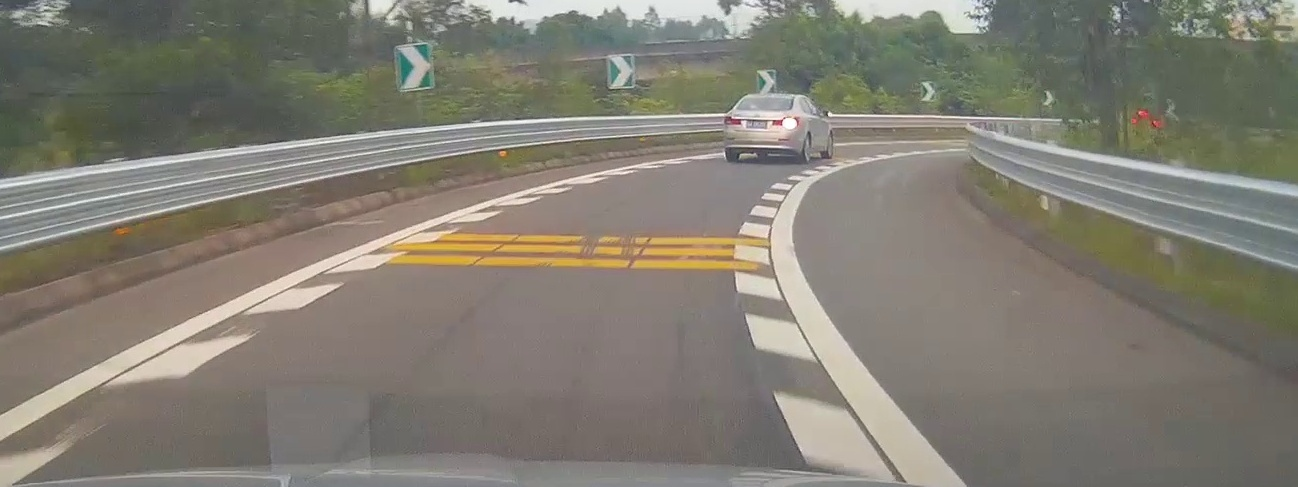L_light: (725, 116, 741, 125)
R_light: (772, 117, 798, 129)
T_light: (757, 106, 769, 110)
day-right: (724, 93, 799, 162)
